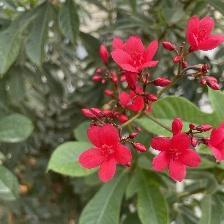jatropha: (81, 123, 134, 184)
